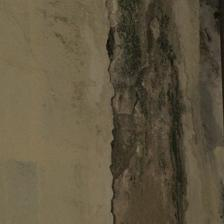Crack: (0, 0, 128, 83), (7, 30, 119, 118)
